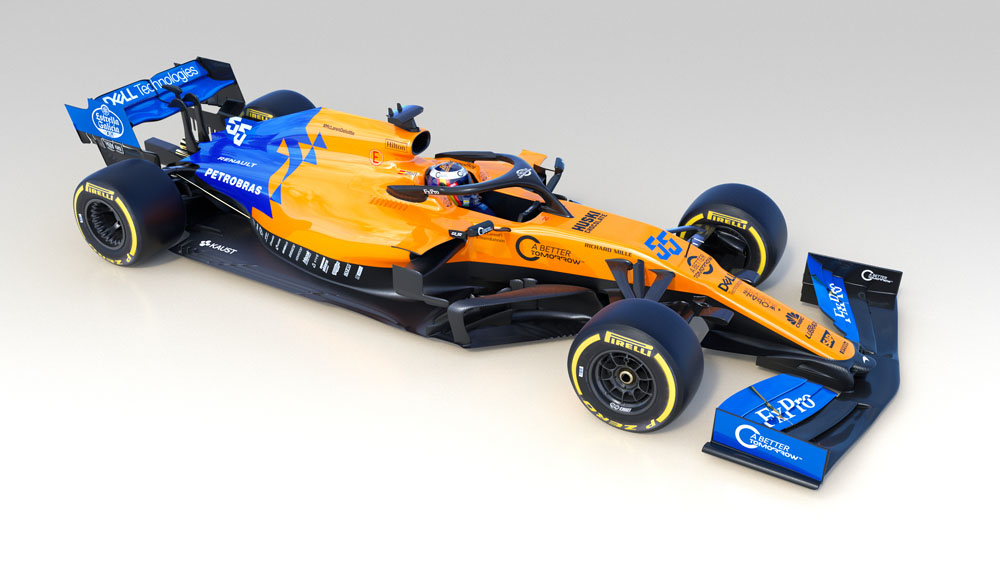f1_car: (52, 45, 926, 510)
